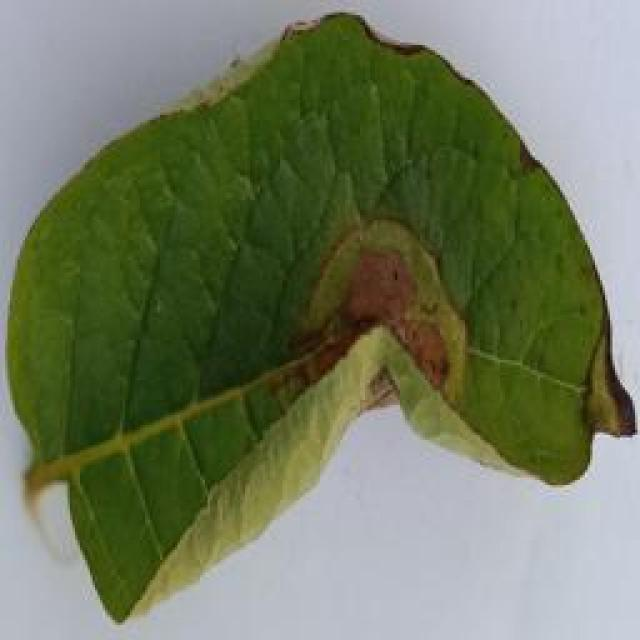Potato_Late_Blight: (8, 14, 626, 628)
